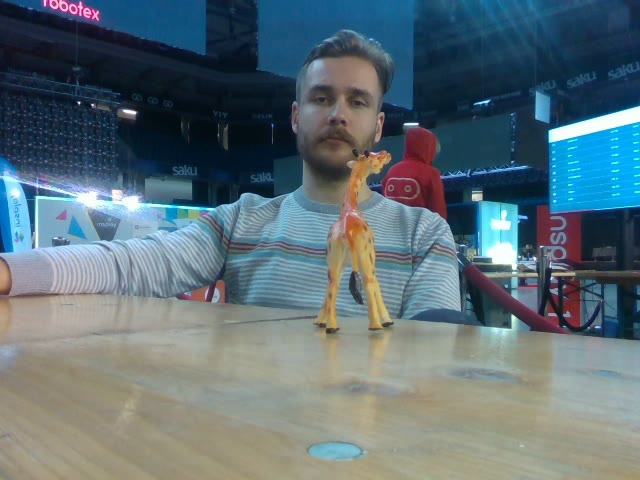toy: (311, 148, 392, 336)
